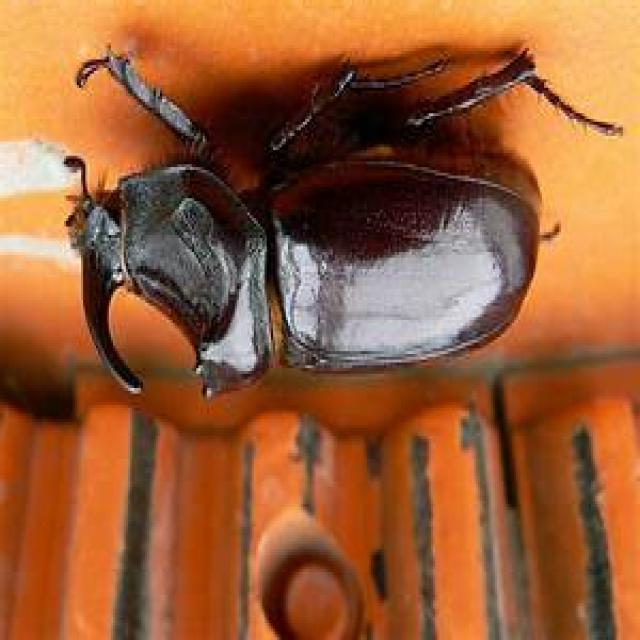Rhino-beetle: (41, 56, 572, 402)
